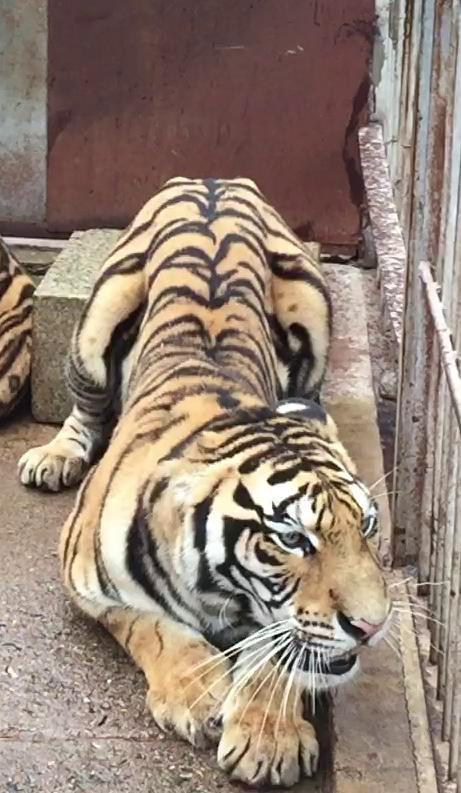tiger: (19, 177, 390, 784)
